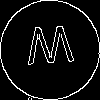W: (25, 25, 75, 74)
